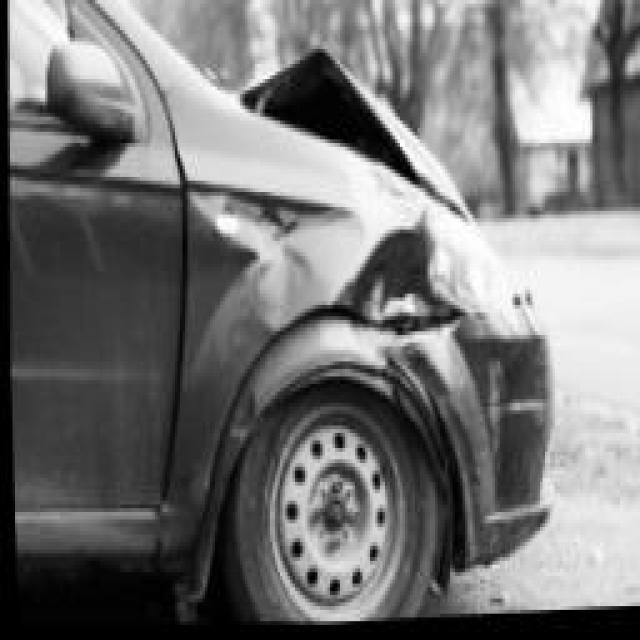Bonnet: (268, 41, 489, 209)
Bumper: (415, 320, 585, 561)
Fender: (202, 120, 430, 367)
